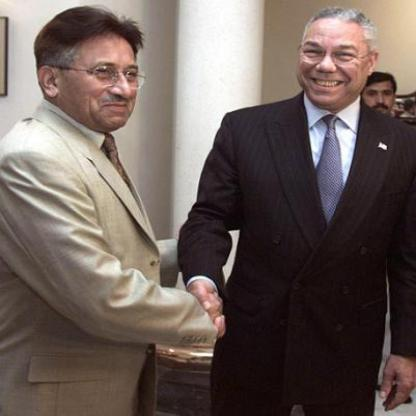face: (57, 21, 149, 134), (297, 11, 371, 108), (361, 74, 398, 119)
